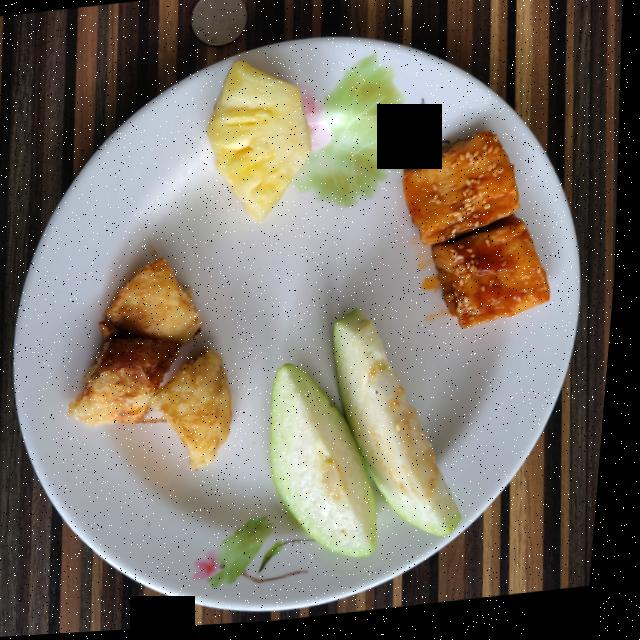coin: (190, 0, 246, 49)
creamy tofu: (406, 137, 554, 334)
fried potato: (75, 261, 238, 474)
guava -sliced-: (278, 313, 469, 563)
pineapple: (208, 65, 313, 227)
